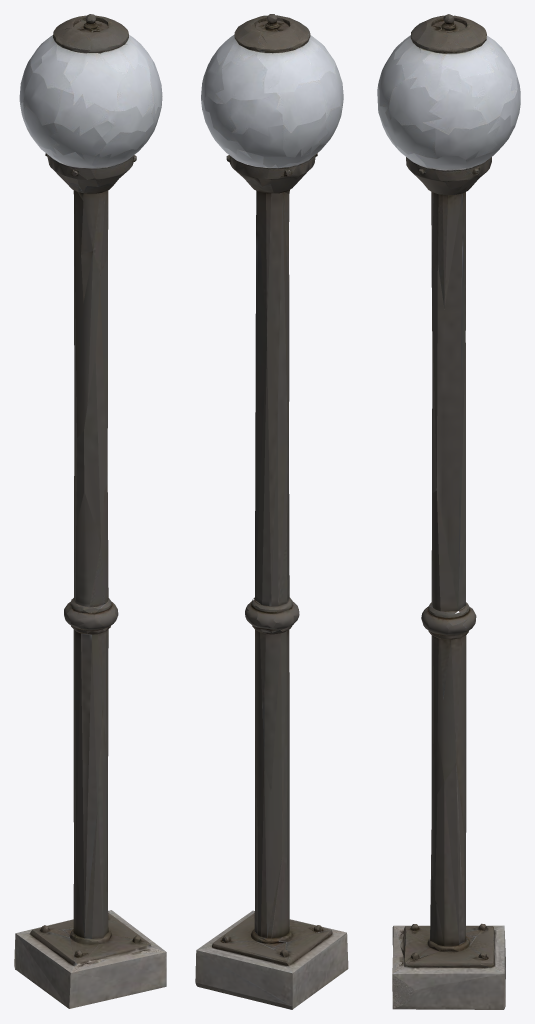
The model's file is w5gardenlamp.glb.
3 views of the same model, side by side, from view 1: azimuth 30°, elevation 25°; view 2: azimuth 150°, elevation 25°; view 3: azimuth 270°, elevation 25° (orthographic).
Parts seen in each view (by area): view 1: output_unwrapped; view 2: output_unwrapped; view 3: output_unwrapped.
Part boxes in pixels (x1,y1,x2,y2): output_unwrapped: (14,14,166,1008); output_unwrapped: (195,14,348,1009); output_unwrapped: (377,14,520,1009).
Bounding box in the file's own units: 0.4285 × 3.2 × 0.4281.
1 material, 1 textured.
